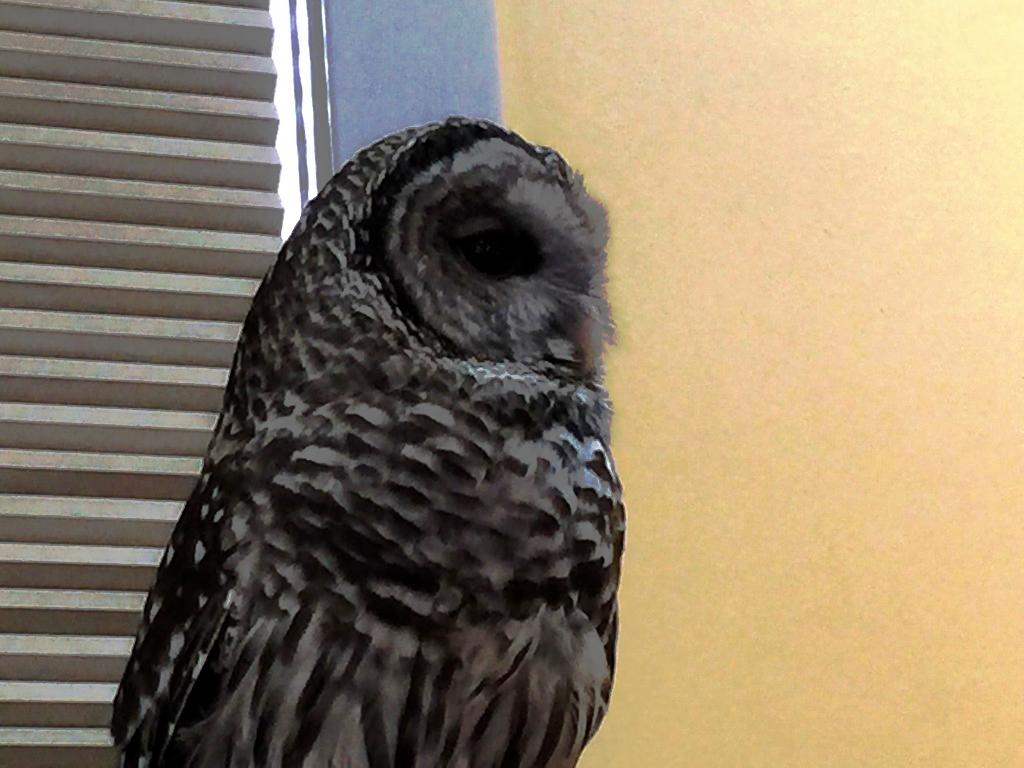Owl: (113, 115, 622, 768)
